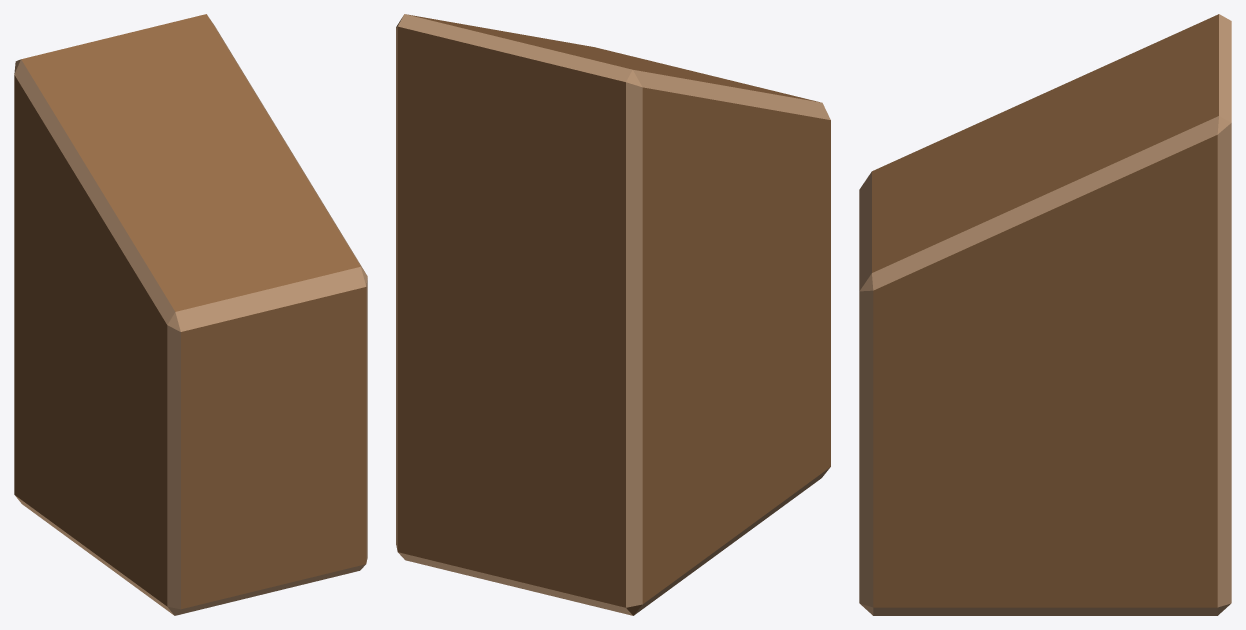
The model's file is moving-ramp.glb.
The picture shows the model from 3 angles, left to right: view 1: azimuth 30°, elevation 25°; view 2: azimuth 150°, elevation 25°; view 3: azimuth 270°, elevation 25°; orthographic projection. The views are drawn at different scales.
Parts seen in each view (by area): view 1: Cube; view 2: Cube; view 3: Cube.
Part boxes in pixels (x1,y1,x2,y2): Cube: (14, 14, 367, 615); Cube: (396, 14, 830, 615); Cube: (859, 14, 1231, 615).
Size of what is drawn, in the model's own units: 2.8 by 5.93 by 4.
Materials: 1 (1 with a texture image).
